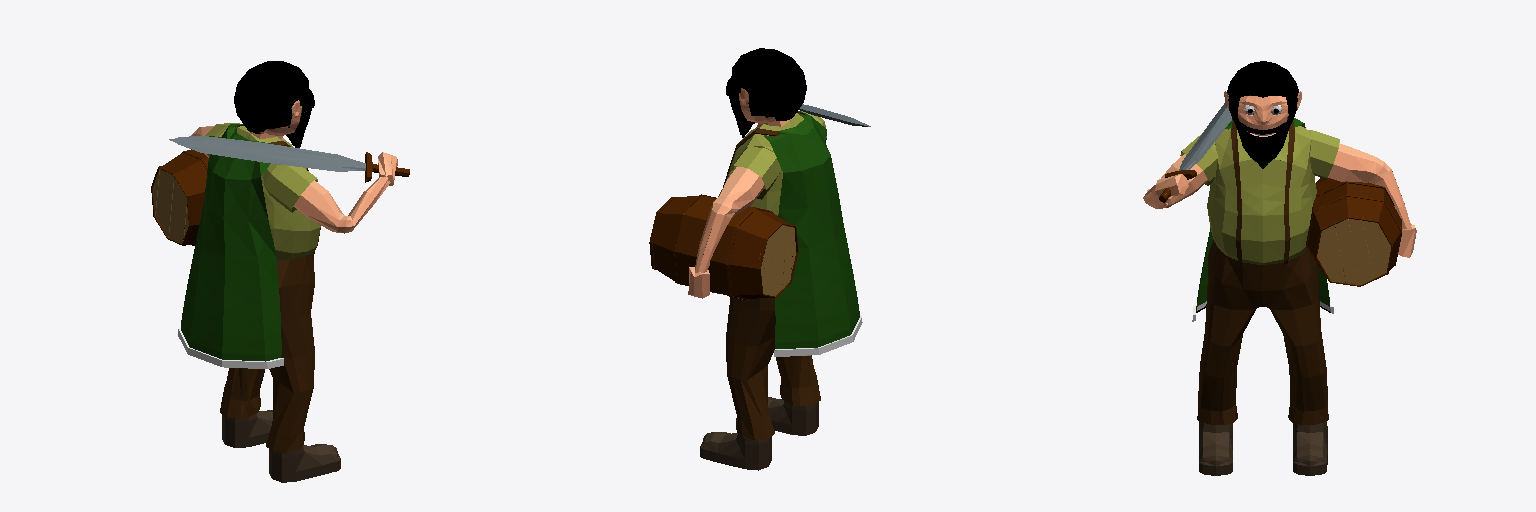
The picture shows the model from 3 angles: view 1: azimuth 30°, elevation 25°; view 2: azimuth 150°, elevation 25°; view 3: azimuth 270°, elevation 25°; orthographic projection.
Visible parts, largest first — view 1: Cube.012_Cube.010; view 2: Cube.012_Cube.010; view 3: Cube.012_Cube.010.
Part boxes in pixels (x1,y1,x2,y2): Cube.012_Cube.010: (151, 61, 409, 482); Cube.012_Cube.010: (649, 48, 870, 470); Cube.012_Cube.010: (1143, 61, 1416, 475).
Bounding box in the file's own units: 3.47 × 6.76 × 4.29.
1 materials, 1 textured.